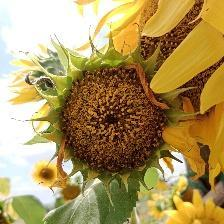sunflower: (58, 62, 171, 179)
